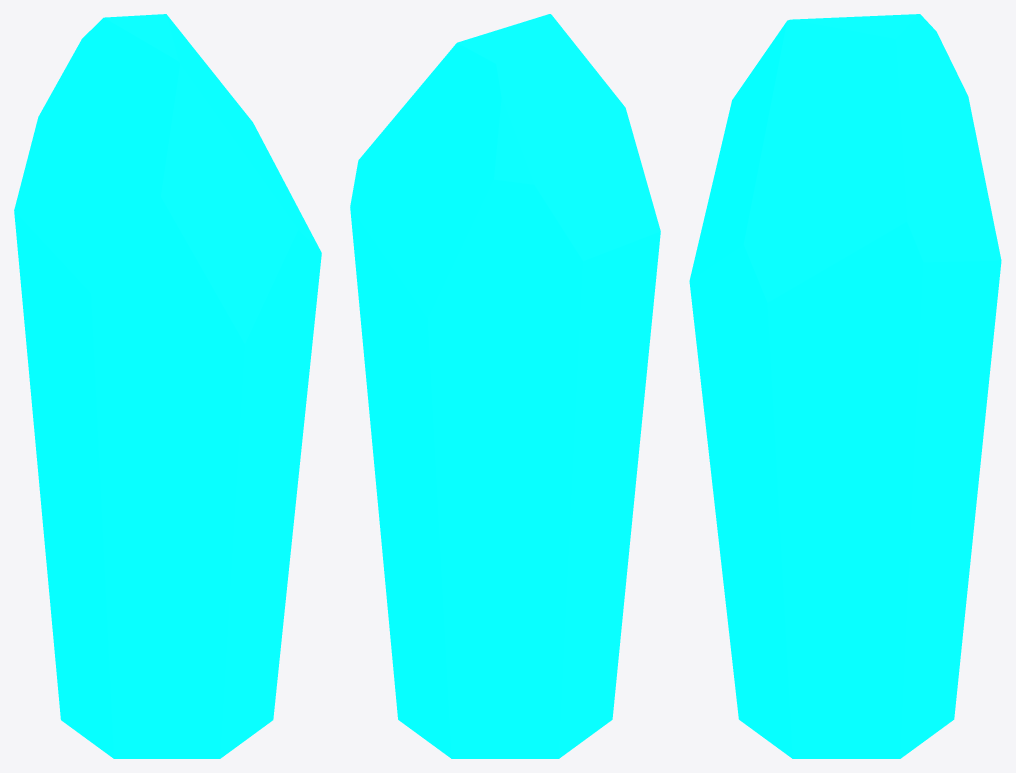
The model's file is HexStoneBase.fbx.
The picture shows the model from 3 angles, left to right: view 1: azimuth 30°, elevation 25°; view 2: azimuth 150°, elevation 25°; view 3: azimuth 270°, elevation 25°; orthographic projection.
Visible parts, largest first — view 1: HexStoneBase; view 2: HexStoneBase; view 3: HexStoneBase.
Boxes of the visible parts, left/top/right/bottom form: HexStoneBase: left=14, top=14, right=321, bottom=758; HexStoneBase: left=350, top=14, right=660, bottom=758; HexStoneBase: left=689, top=14, right=1001, bottom=758.
Size of the model in its own units: 68.26 by 193 by 78.83.
